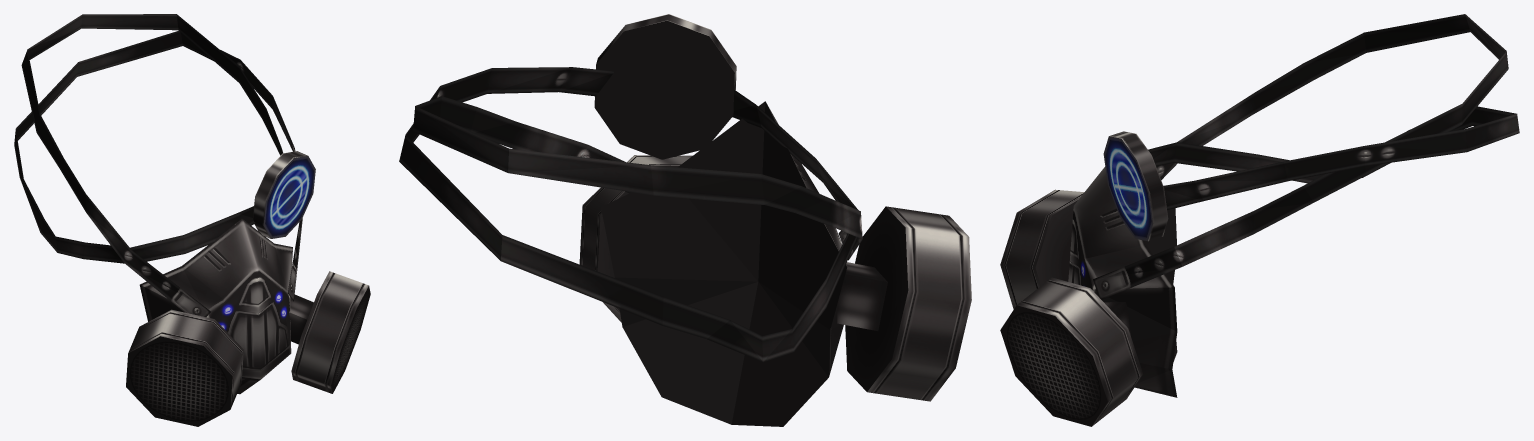
3 renders of one model, left to right at view 1: azimuth 30°, elevation 25°; view 2: azimuth 150°, elevation 25°; view 3: azimuth 270°, elevation 25°, orthographic. The views are drawn at different scales.
Visible parts, largest first — view 1: 3_A_46; view 2: 3_A_46; view 3: 3_A_46.
Boxes of the visible parts, left/top/right/bottom form: 3_A_46: left=14, top=14, right=370, bottom=426; 3_A_46: left=399, top=14, right=971, bottom=426; 3_A_46: left=1000, top=14, right=1519, bottom=426.
Bounding box in the file's own units: 41.41 × 61.98 × 44.63.
